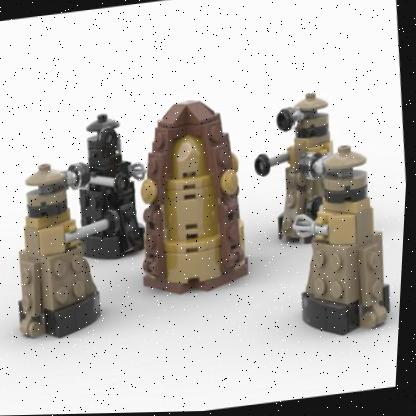dalek: (273, 126, 405, 354), (0, 141, 127, 358), (55, 94, 153, 280), (247, 81, 342, 243)
